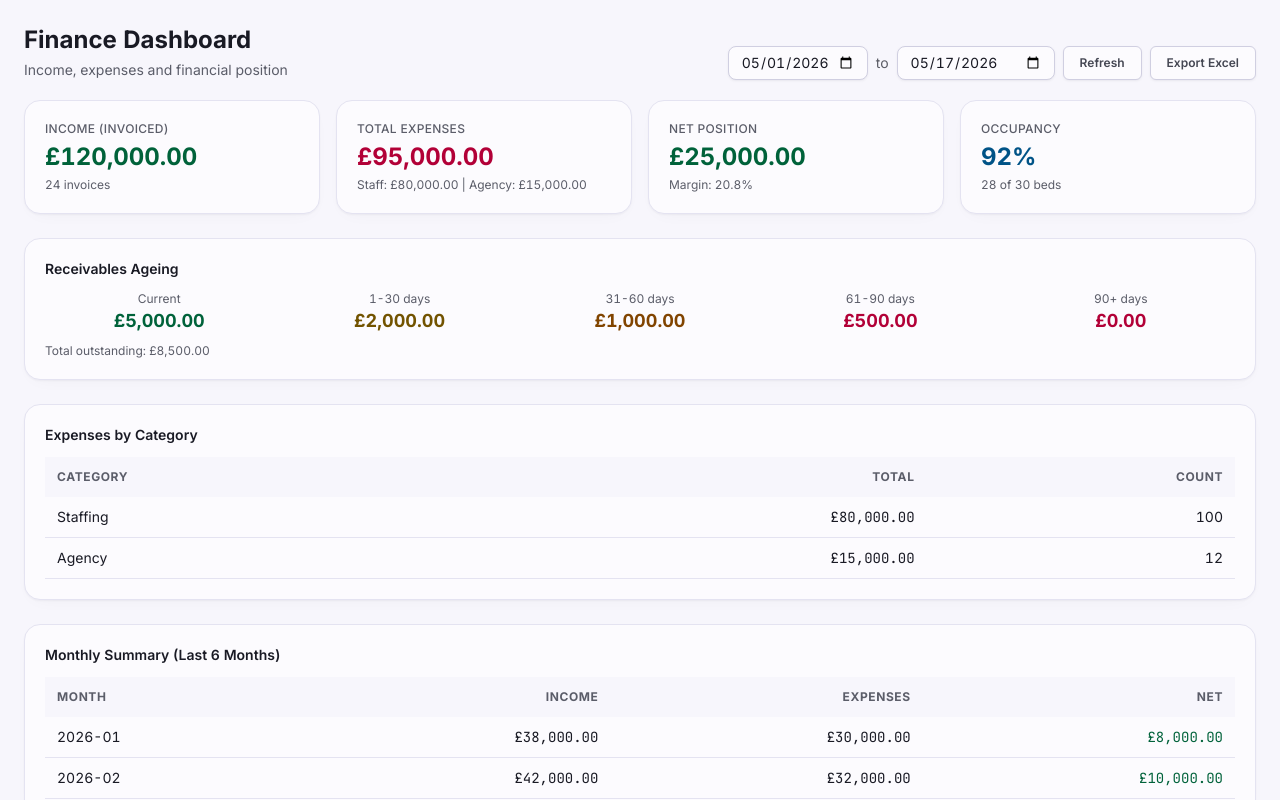
Test: FinanceDashboard › hides stale dashboard figures while the date range is invalid
This screenshot has width=1280, height=800.
Check: the text "Income (Invoiced)" is shown, box [45, 121, 169, 136]
In the date field named "From date": x=798, y=63 [728, 46, 868, 80], type "2099-01-01"
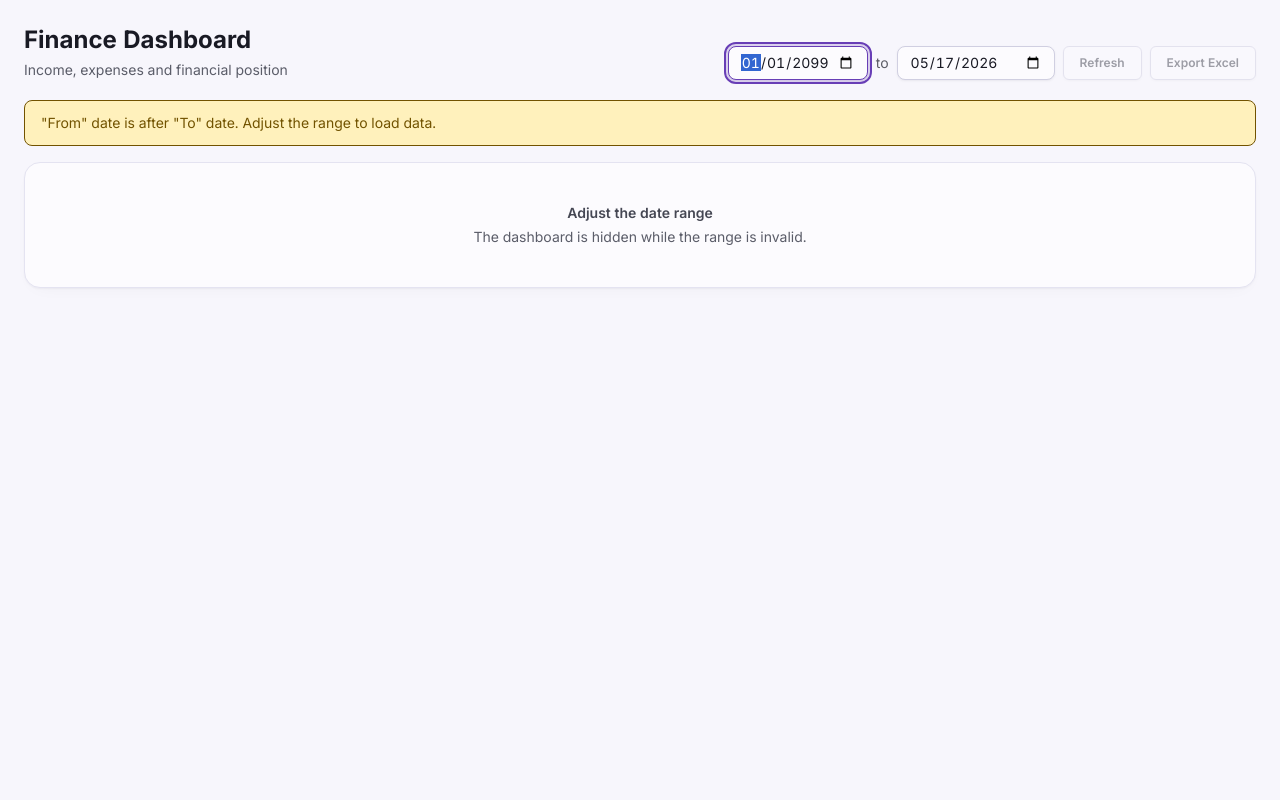
Check: the text "Adjust the date range" is shown, box [567, 204, 713, 221]
Check: the text "Income (Invoiced)" is gone
Check: the button "Refresh" is disabled, box [1063, 46, 1142, 80]
